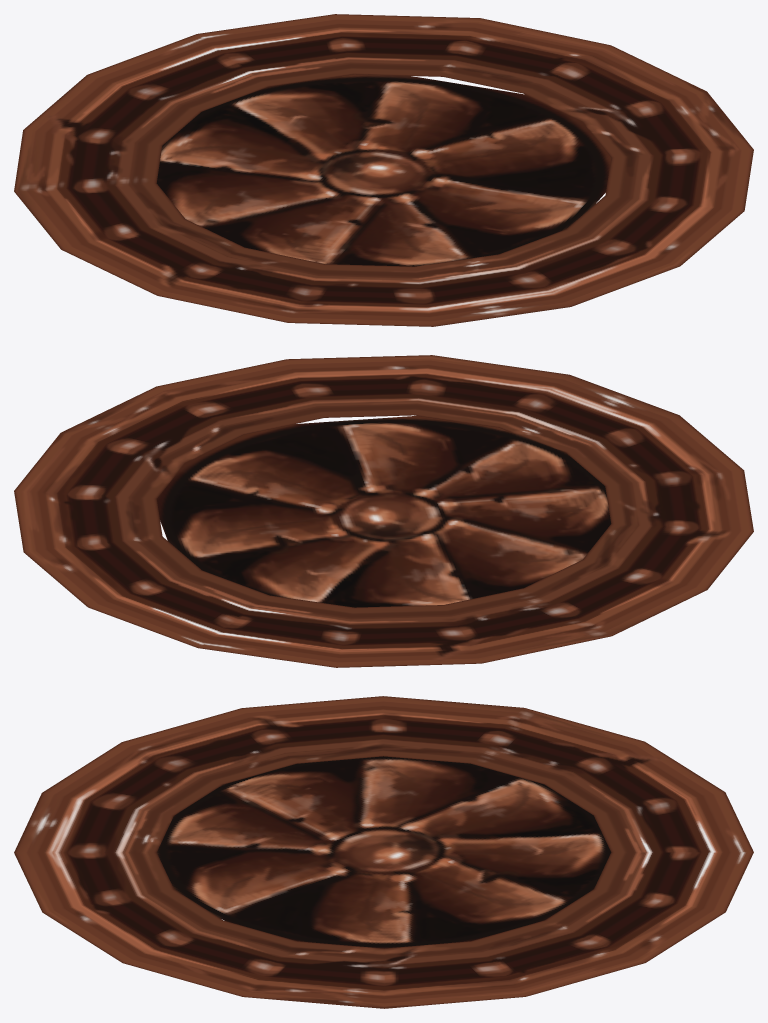
Rendered from metalGrating_02.fbx.
3 renders of one model, top to bottom at view 1: azimuth 30°, elevation 25°; view 2: azimuth 150°, elevation 25°; view 3: azimuth 270°, elevation 25°, orthographic.
Parts seen in each view (by area): view 1: frame, fan; view 2: frame, fan; view 3: frame, fan.
Boxes of the visible parts, x1,y1,x2,y2 form: frame: (14,14,753,326); fan: (156,74,610,266); frame: (14,355,753,667); fan: (156,416,611,607); frame: (14,696,753,1008); fan: (156,756,611,948).
Size of the model in its own units: 1.99 by 0.00701 by 1.99.
